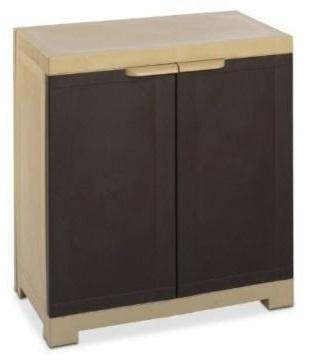cabinet_door: (49, 75, 177, 300), (176, 57, 292, 288)
handle: (175, 55, 228, 75), (124, 61, 181, 79)
